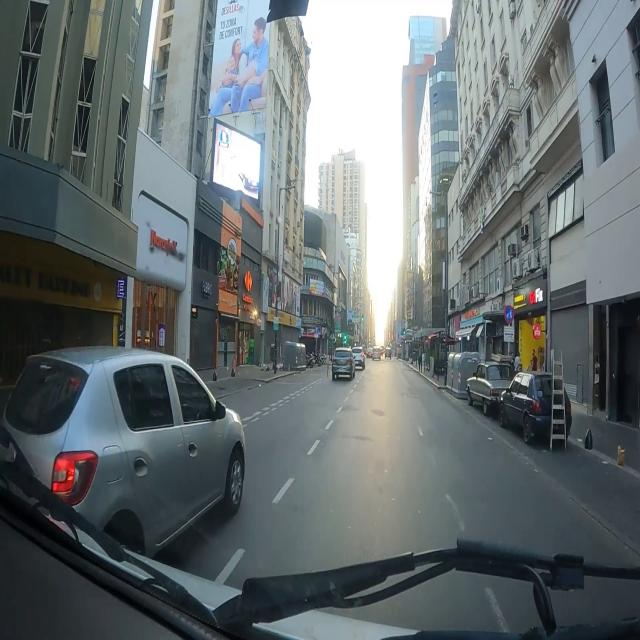car: (2, 348, 244, 555), (499, 372, 552, 443), (467, 361, 514, 415), (332, 347, 355, 380), (352, 347, 365, 370), (372, 348, 381, 360), (385, 348, 391, 359)
